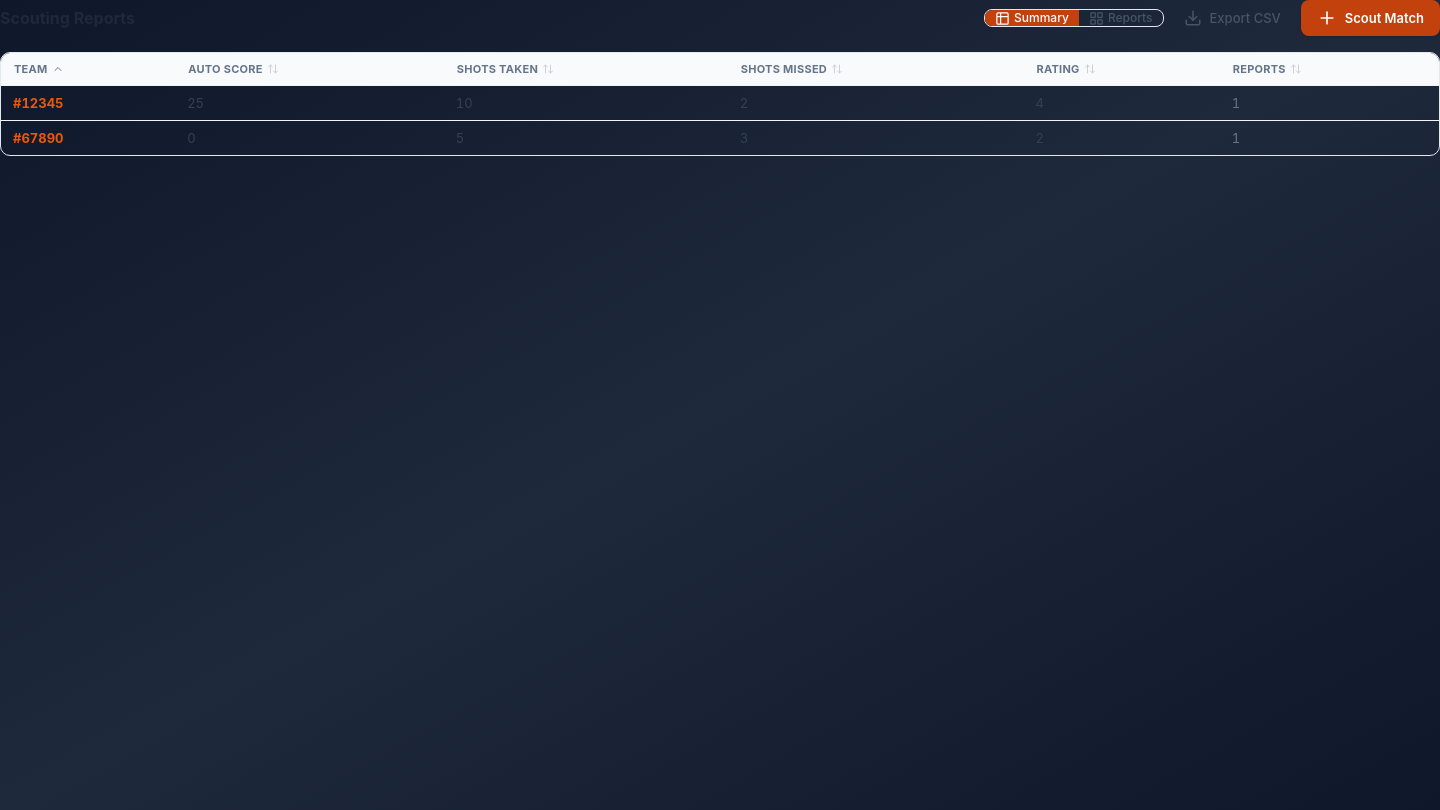
Scenario: ScoutingReport form validation › a report card opens from the keyboard
The image size is (1440, 810).
Step 1. Click the button with test id "scout-view-cards" → (1121, 18), box [1079,10,1162,26]
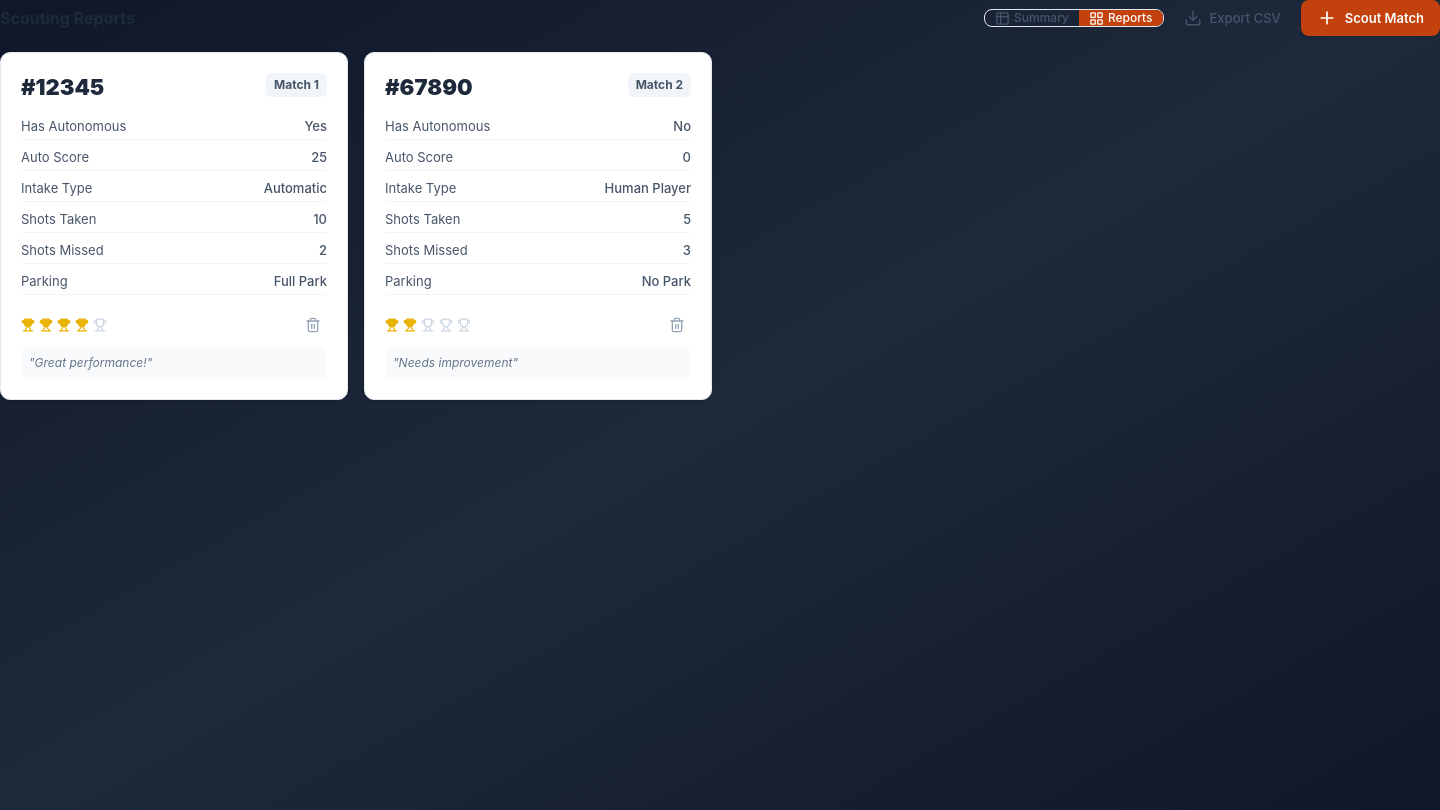
expect the button "#12345" is shown: met
Step 2. Press Enter in the button "#12345", box [0,52,348,400]
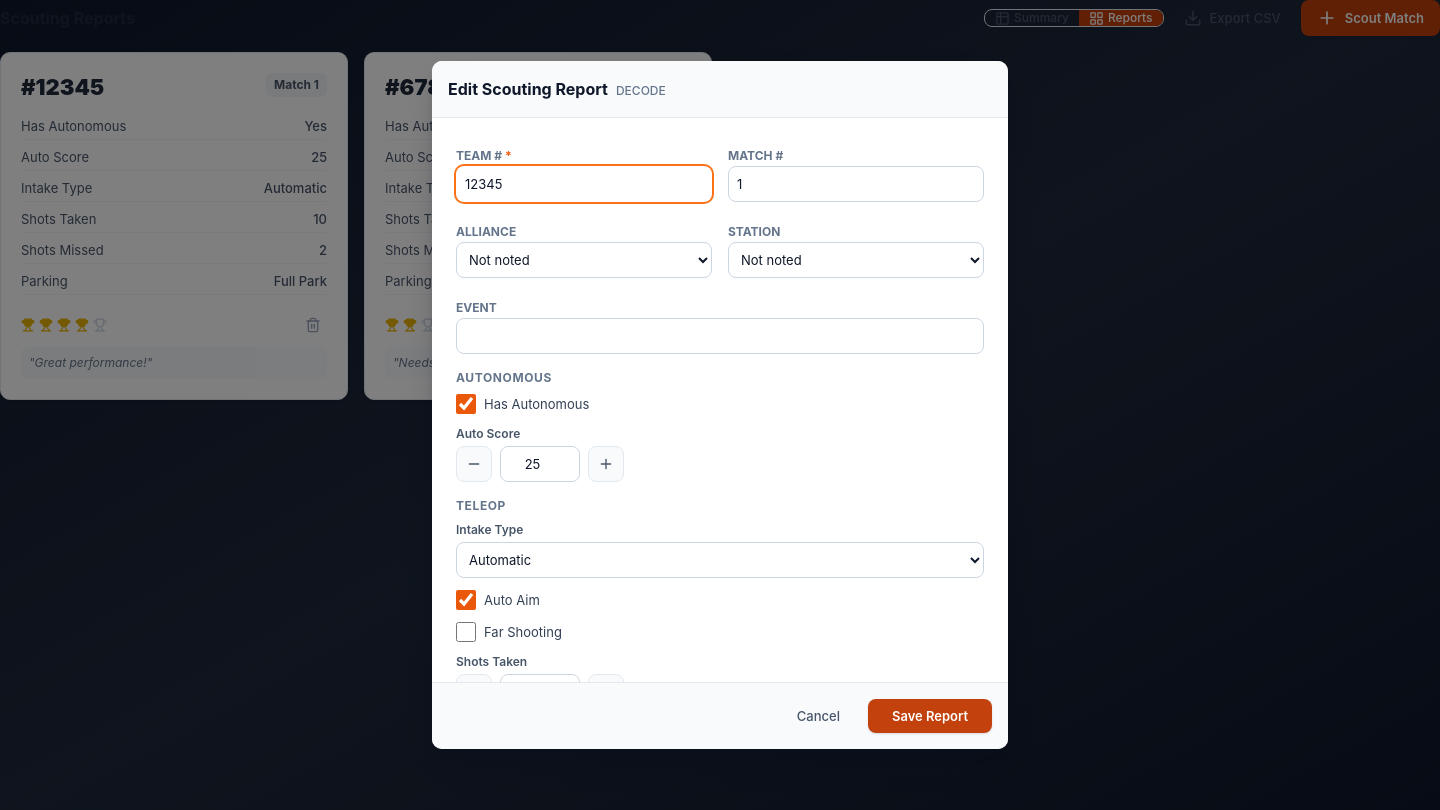
expect the text "Edit Scouting Report" is shown: met, box [448,79,608,99]
